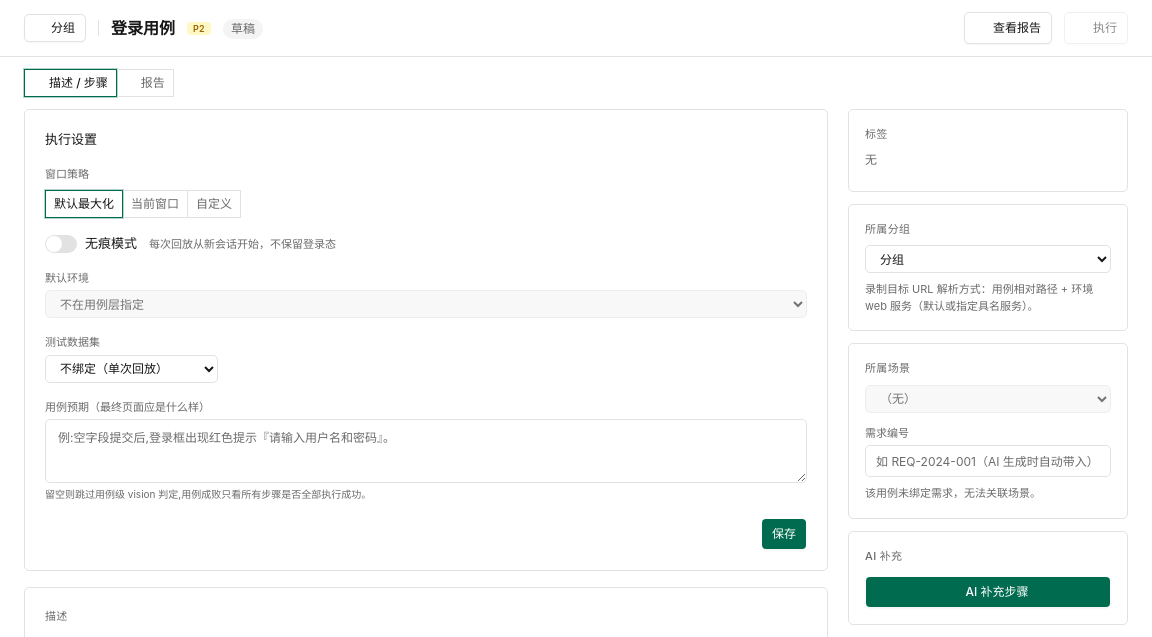
Test case: CaseDetail 数据集行选择 › 未绑数据集 → 不渲染行范围控件；绑定后才出现
Expected: the text "数据集行范围" is not shown
Select "账号甲（3 启用行）" in the dropdown labelled "测试数据集" at (132, 368), box top-left (45, 354), bottom-right (218, 382)
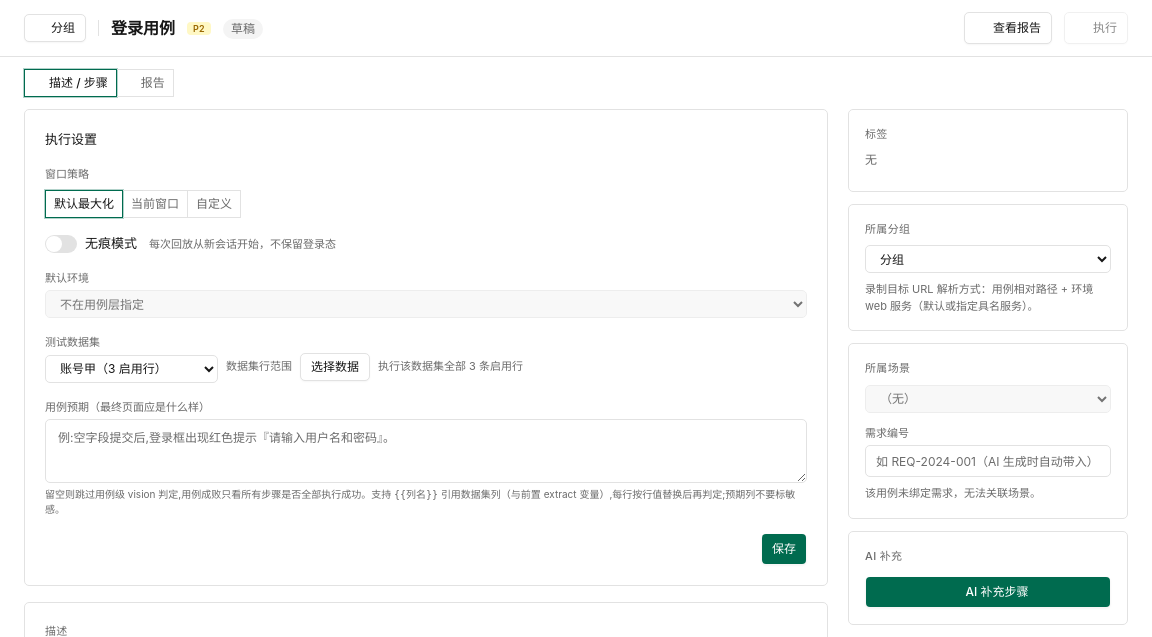
Expected: the text "数据集行范围" is shown, top-left (226, 358), bottom-right (292, 375)
Expected: the button "选择数据" is shown, top-left (300, 352), bottom-right (370, 380)
